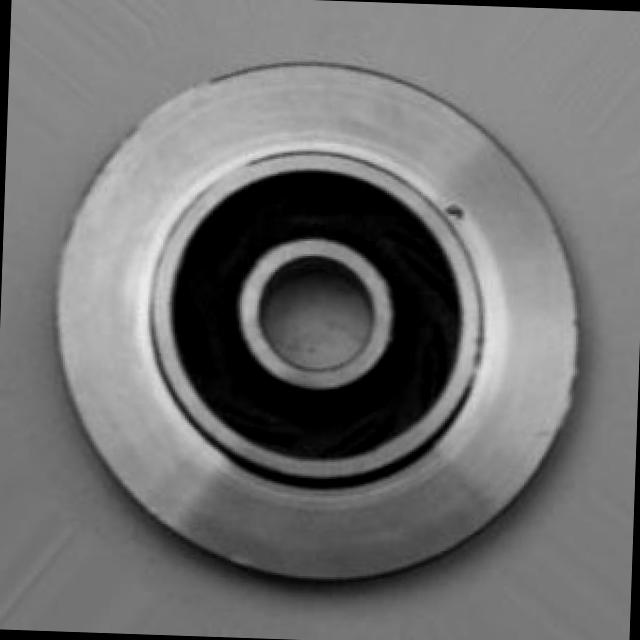Defect: (435, 191, 468, 229)
